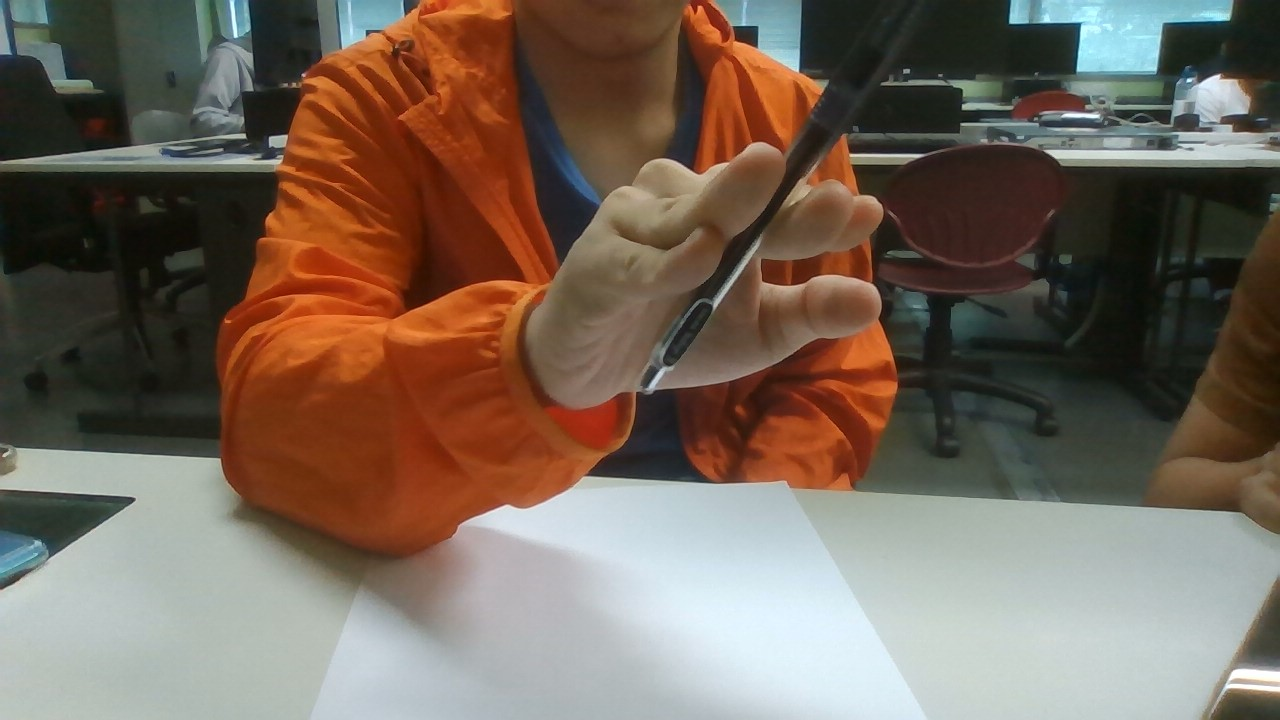pen: (632, 1, 937, 391)
